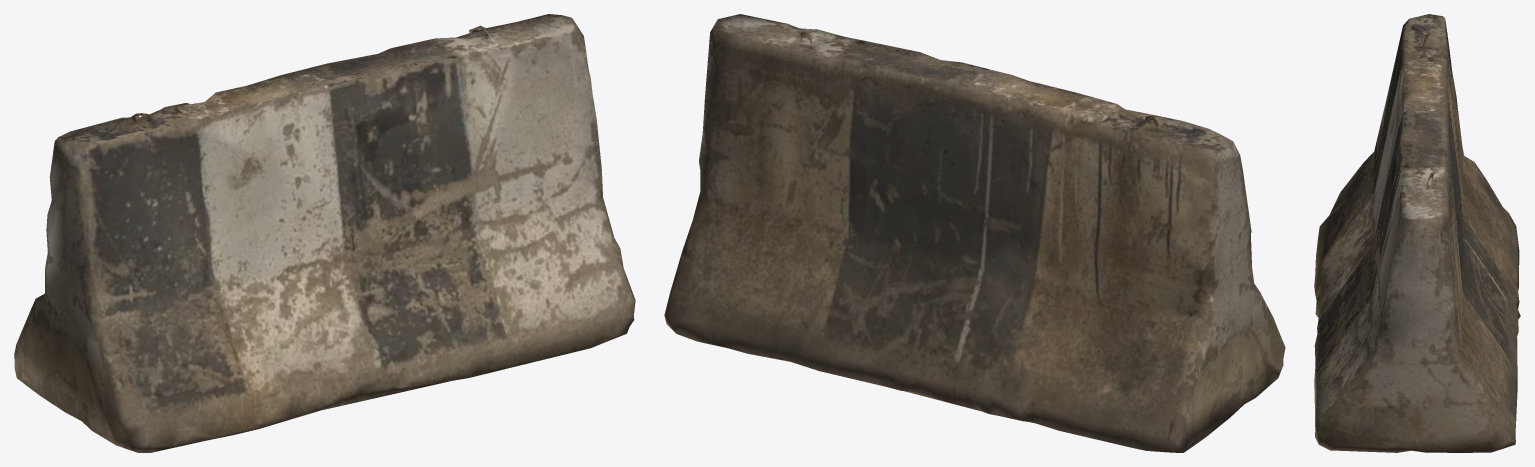
The model's file is concrete_road_barrier.glb.
The picture shows the model from 3 angles, left to right: view 1: azimuth 30°, elevation 25°; view 2: azimuth 150°, elevation 25°; view 3: azimuth 270°, elevation 25°; orthographic projection. The views are drawn at different scales.
Parts seen in each view (by area): view 1: concrete_road_barrier; view 2: concrete_road_barrier; view 3: concrete_road_barrier.
Part boxes in pixels (box(x1,y1,x2,y2)): concrete_road_barrier: box(14, 14, 635, 452); concrete_road_barrier: box(664, 14, 1285, 452); concrete_road_barrier: box(1314, 14, 1520, 452).
Bounding box in the file's own units: 1.54 × 0.8306 × 0.6334.
1 material, 1 textured.
